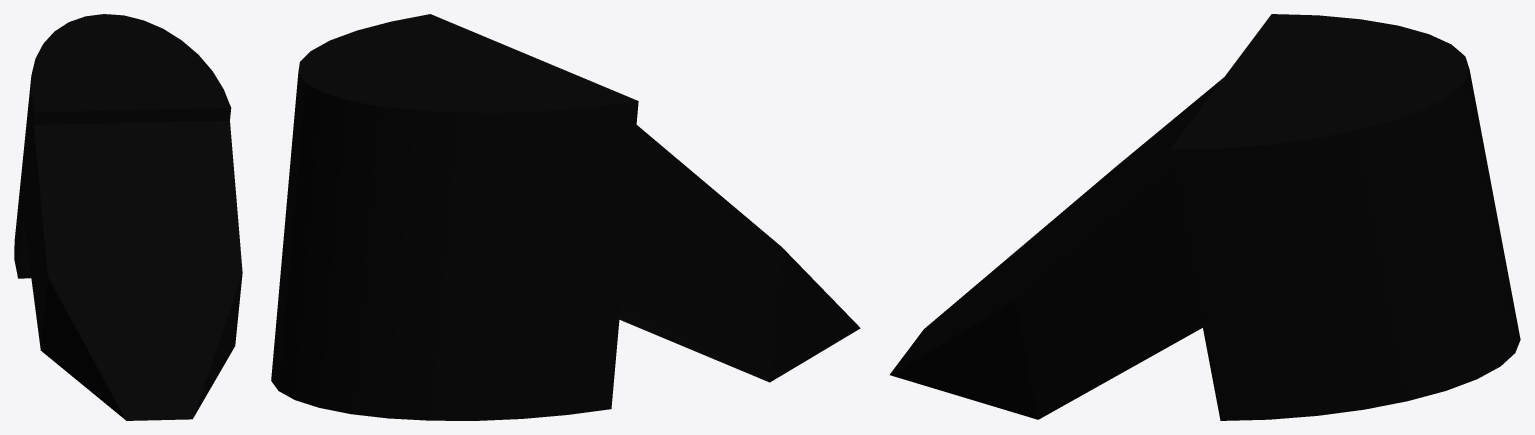
File: DexterLeg.obj
3 renders of one model, left to right at view 1: azimuth 30°, elevation 25°; view 2: azimuth 150°, elevation 25°; view 3: azimuth 270°, elevation 25°, orthographic. The views are drawn at different scales.
Parts seen in each view (by area): view 1: Cylinder_003; view 2: Cylinder_003; view 3: Cylinder_003.
Part boxes in pixels (x1,y1,x2,y2): Cylinder_003: (14, 14, 242, 420); Cylinder_003: (271, 14, 860, 420); Cylinder_003: (889, 14, 1520, 420).
Size of the model in its own units: 0.4869 by 0.5246 by 0.8153.
